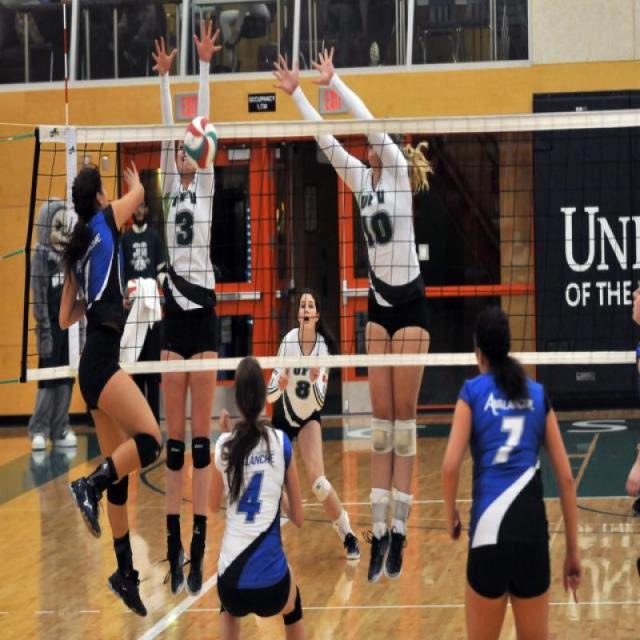volleyball: (182, 110, 218, 166)
